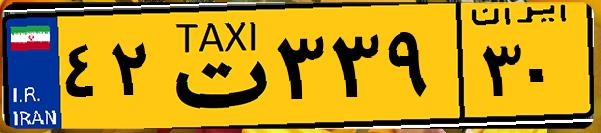0: (525, 38, 570, 115)
2: (110, 28, 158, 98)
3: (270, 28, 330, 110), (330, 28, 385, 110), (475, 38, 525, 113)
4: (57, 26, 110, 100)
9: (385, 28, 445, 110)
ت: (158, 12, 270, 120)
